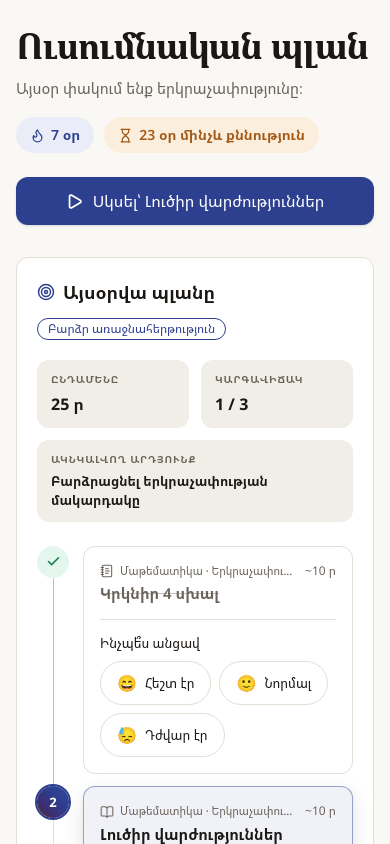
StudyPlanPage › records a check-in and confirms it back to the student
Expected: the text "Ինչպե՞ս անցավ" is shown, [100, 634, 200, 652]
Click the button "😓 Դժվար էր" at (162, 735), box [100, 713, 225, 757]
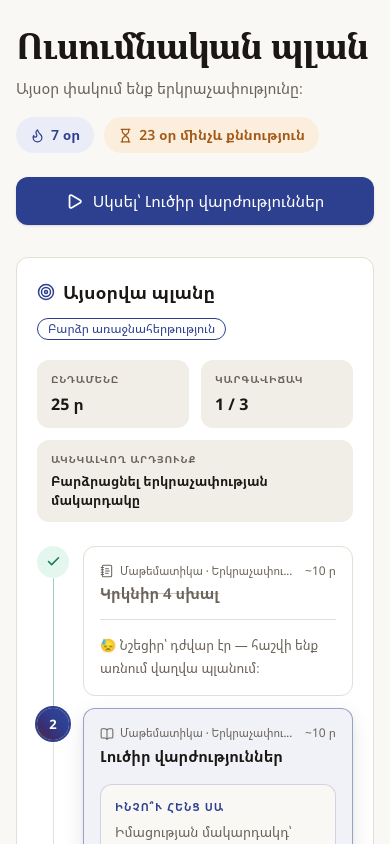
Result: the text "😓 Նշեցիր՝ դժվար էր — հաշվի ենք առնում վաղվա պլանում։" is shown at [100, 634, 336, 679]
